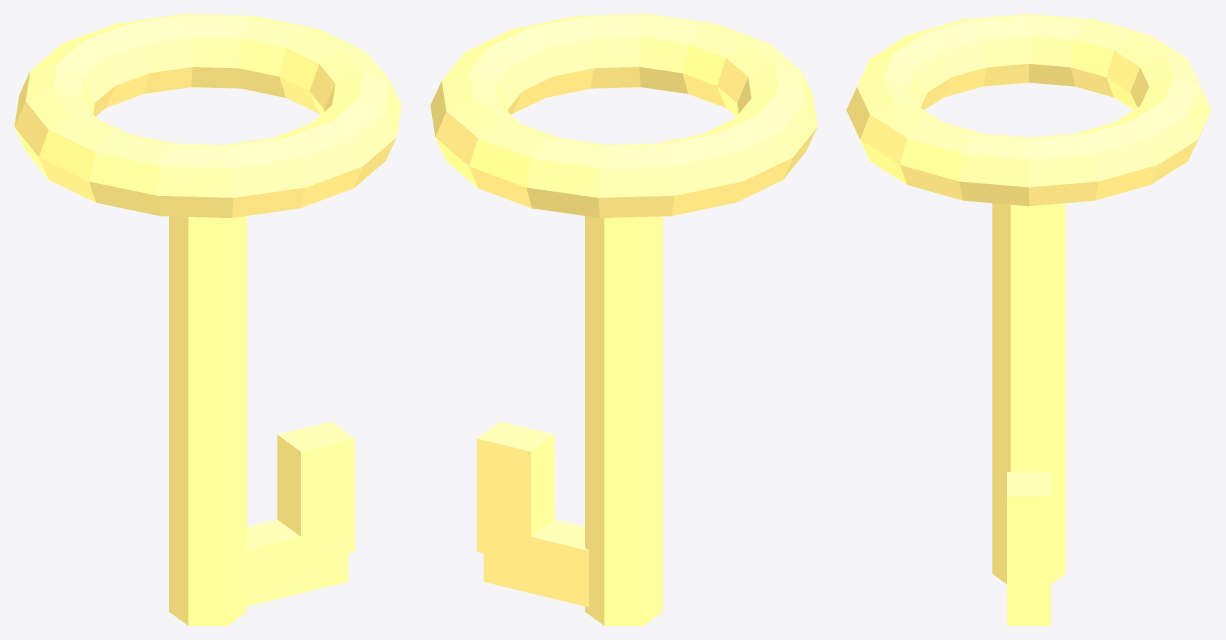
File: key.glb
The picture shows the model from 3 angles, left to right: view 1: azimuth 30°, elevation 25°; view 2: azimuth 150°, elevation 25°; view 3: azimuth 270°, elevation 25°; orthographic projection. The views are drawn at different scales.
Visible parts, largest first — view 1: KeyRing; view 2: KeyRing; view 3: KeyRing.
Boxes of the visible parts, x1,y1,x2,y2 form: KeyRing: (14,14,401,625); KeyRing: (430,14,817,625); KeyRing: (846,14,1211,625).
Bounding box in the file's own units: 0.5 × 0.75 × 0.5.
